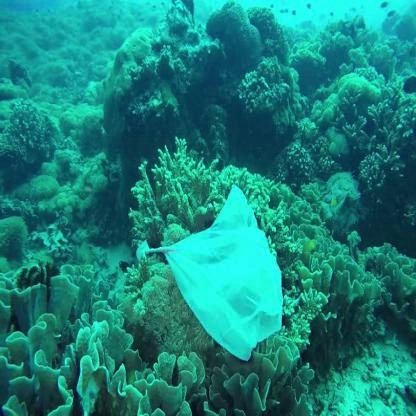pbag: (139, 183, 282, 360)
